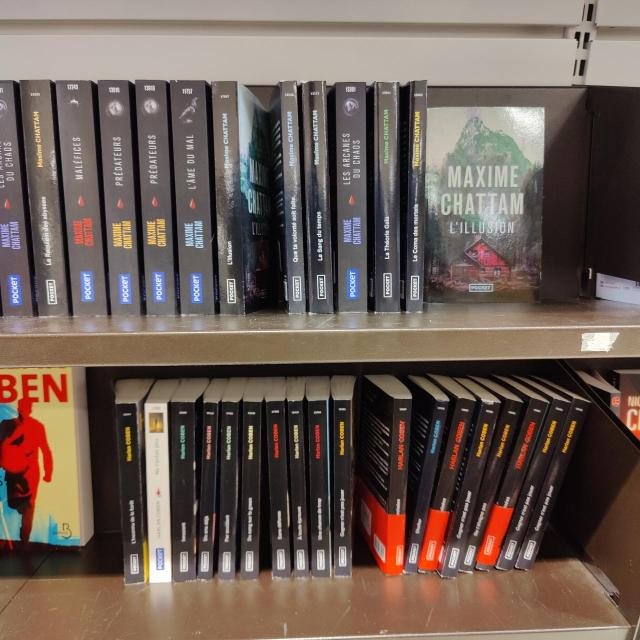book: (515, 398, 590, 571), (476, 397, 549, 571), (497, 398, 570, 571), (55, 80, 108, 316), (20, 80, 69, 316), (459, 398, 523, 573), (441, 400, 500, 578), (170, 80, 214, 315), (98, 80, 141, 315), (135, 79, 176, 314), (420, 398, 475, 570), (403, 400, 449, 574), (0, 80, 33, 316), (212, 81, 245, 315), (302, 80, 334, 314), (336, 82, 368, 313), (375, 81, 401, 313), (281, 81, 306, 314), (115, 402, 145, 585), (405, 80, 427, 313), (385, 398, 412, 575), (144, 403, 170, 583), (266, 400, 291, 579), (172, 402, 195, 582), (288, 400, 310, 578), (218, 401, 238, 580), (198, 402, 218, 580), (310, 400, 329, 578), (242, 400, 260, 579), (334, 399, 351, 576)
